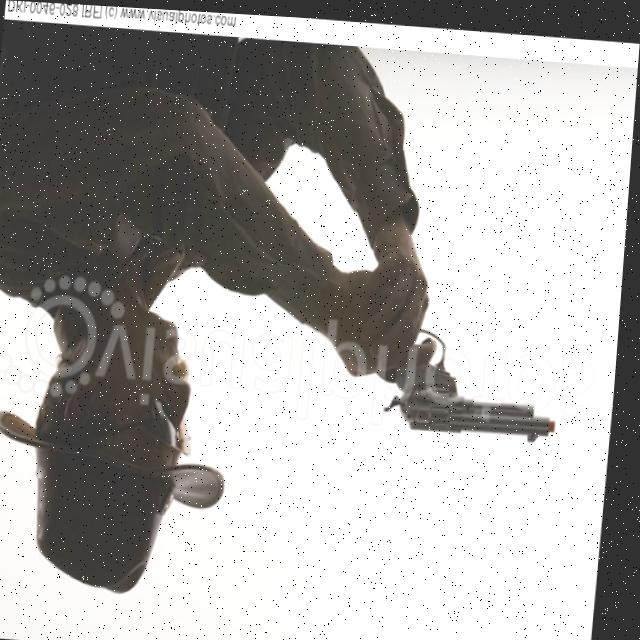pistol: (385, 319, 572, 442)
